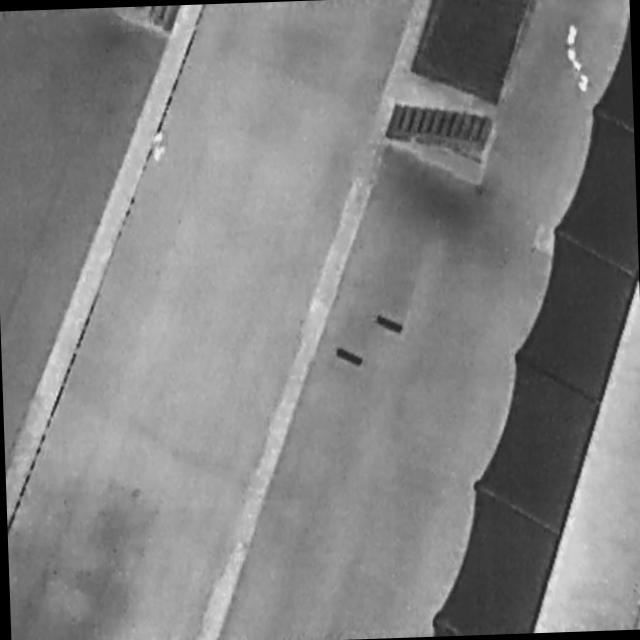person: (152, 130, 168, 166)
